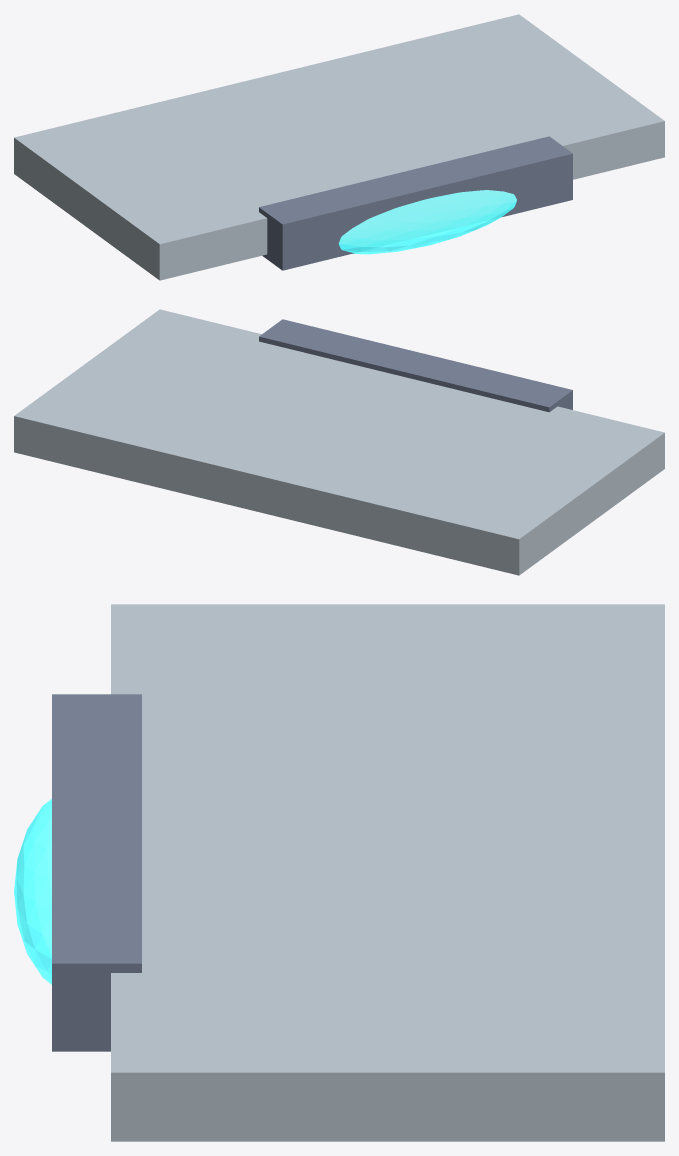
File: 04_Cloud_City_Gate.glb
The picture shows the model from 3 angles, top to bottom: view 1: azimuth 30°, elevation 25°; view 2: azimuth 150°, elevation 25°; view 3: azimuth 270°, elevation 25°; orthographic projection. The views are drawn at different scales.
Visible parts, largest first — view 1: 04_Cloud_City_Gate_00, 04_Cloud_City_Gate_01, 04_Cloud_City_Gate_02, 04_Cloud_City_Gate_03; view 2: 04_Cloud_City_Gate_00, 04_Cloud_City_Gate_01, 04_Cloud_City_Gate_02; view 3: 04_Cloud_City_Gate_01, 04_Cloud_City_Gate_00, 04_Cloud_City_Gate_02, 04_Cloud_City_Gate_03.
Part boxes in pixels (x1,y1,x2,y2): 04_Cloud_City_Gate_00: (14, 76, 398, 280); 04_Cloud_City_Gate_01: (267, 14, 664, 179); 04_Cloud_City_Gate_02: (259, 136, 572, 270); 04_Cloud_City_Gate_03: (338, 190, 516, 254); 04_Cloud_City_Gate_00: (266, 377, 664, 575); 04_Cloud_City_Gate_01: (14, 309, 403, 513); 04_Cloud_City_Gate_02: (259, 319, 572, 412); 04_Cloud_City_Gate_01: (111, 838, 664, 1141); 04_Cloud_City_Gate_00: (111, 604, 664, 838); 04_Cloud_City_Gate_02: (52, 694, 141, 1051); 04_Cloud_City_Gate_03: (14, 799, 51, 984).
Size of the model in its own units: 8 by 0.9 by 4.7.
